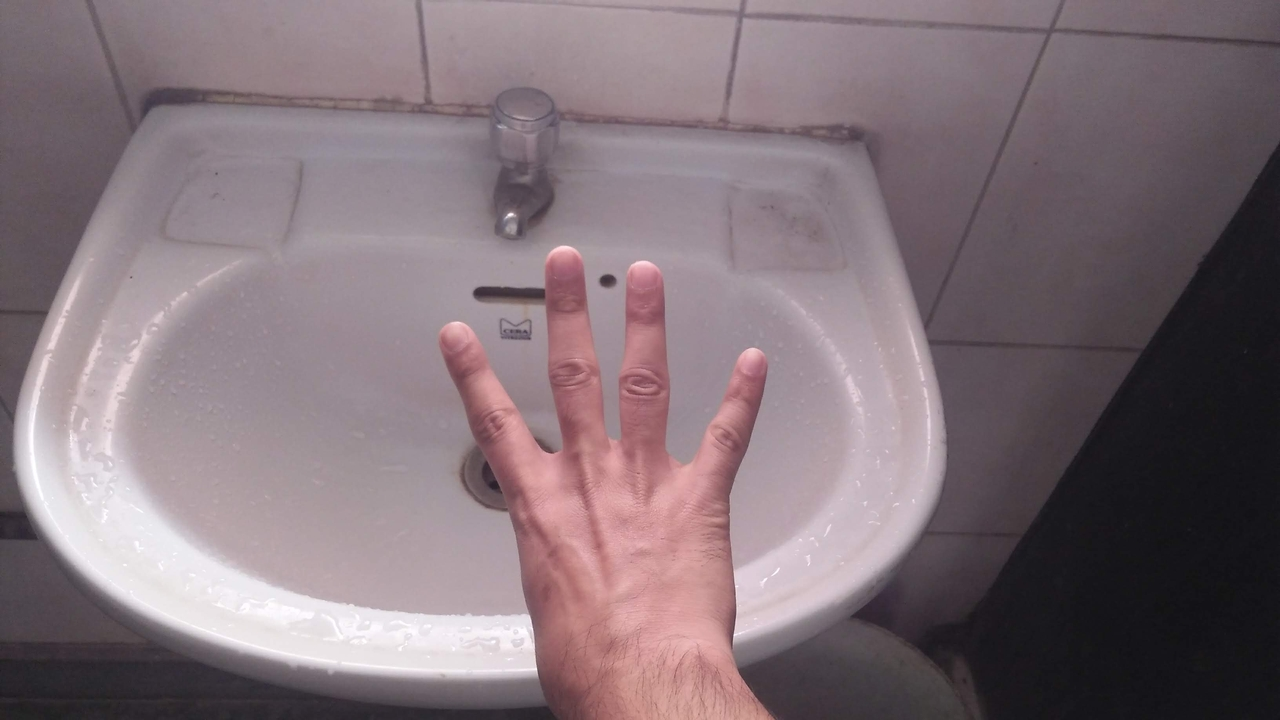fingertip: (614, 252, 672, 306), (428, 312, 480, 366), (726, 338, 774, 392), (540, 236, 588, 288)
